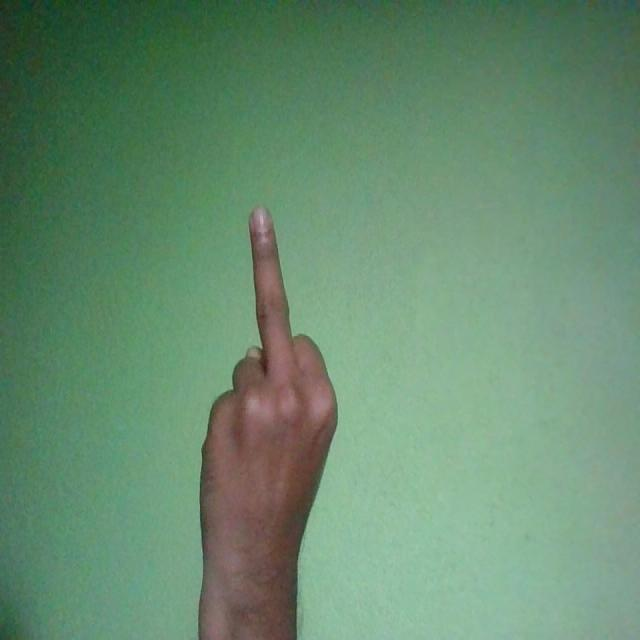Middle Finger: (200, 204, 339, 630)
